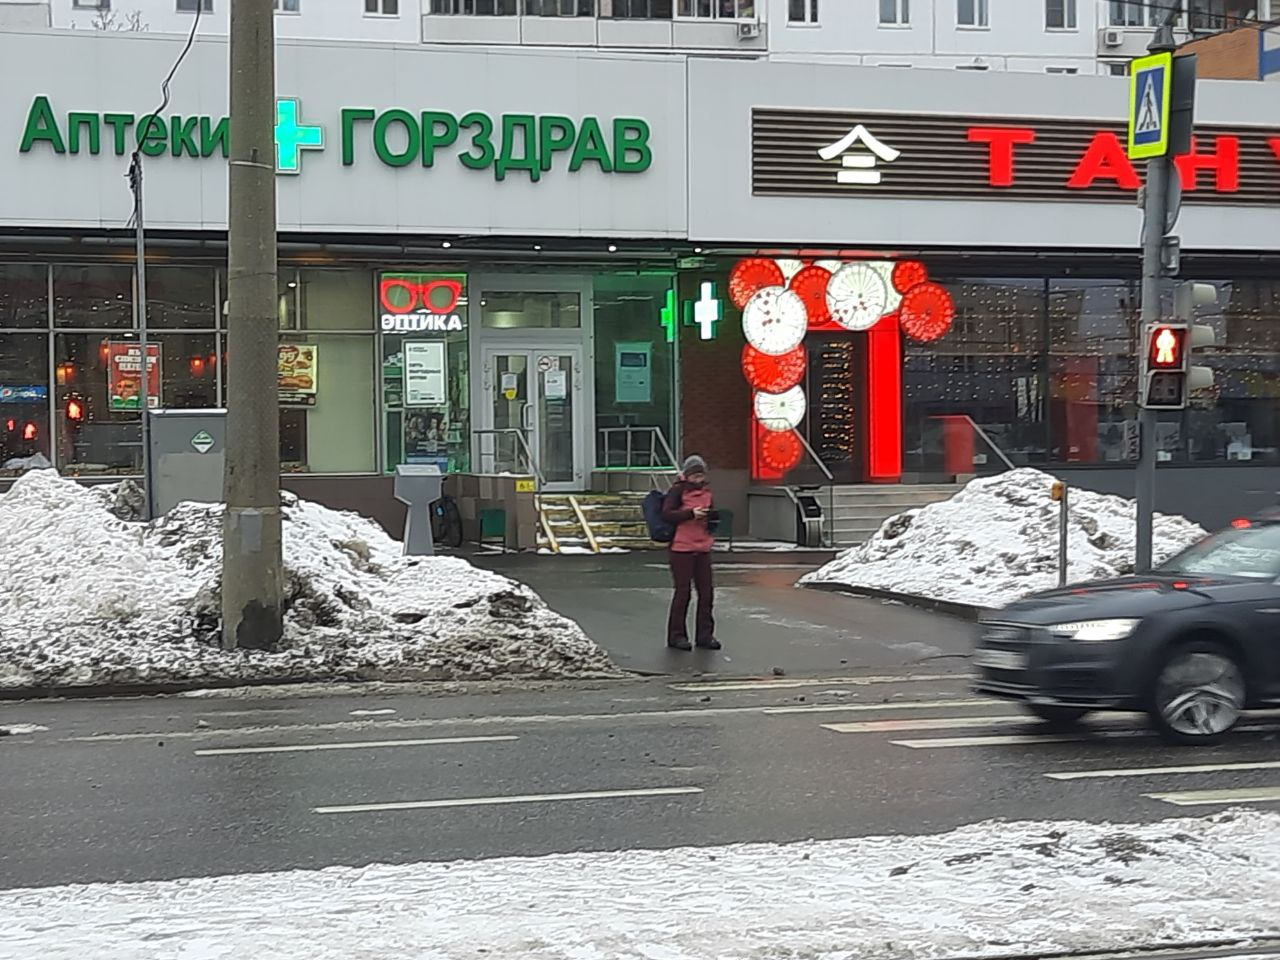sombie: (634, 445, 737, 662)
